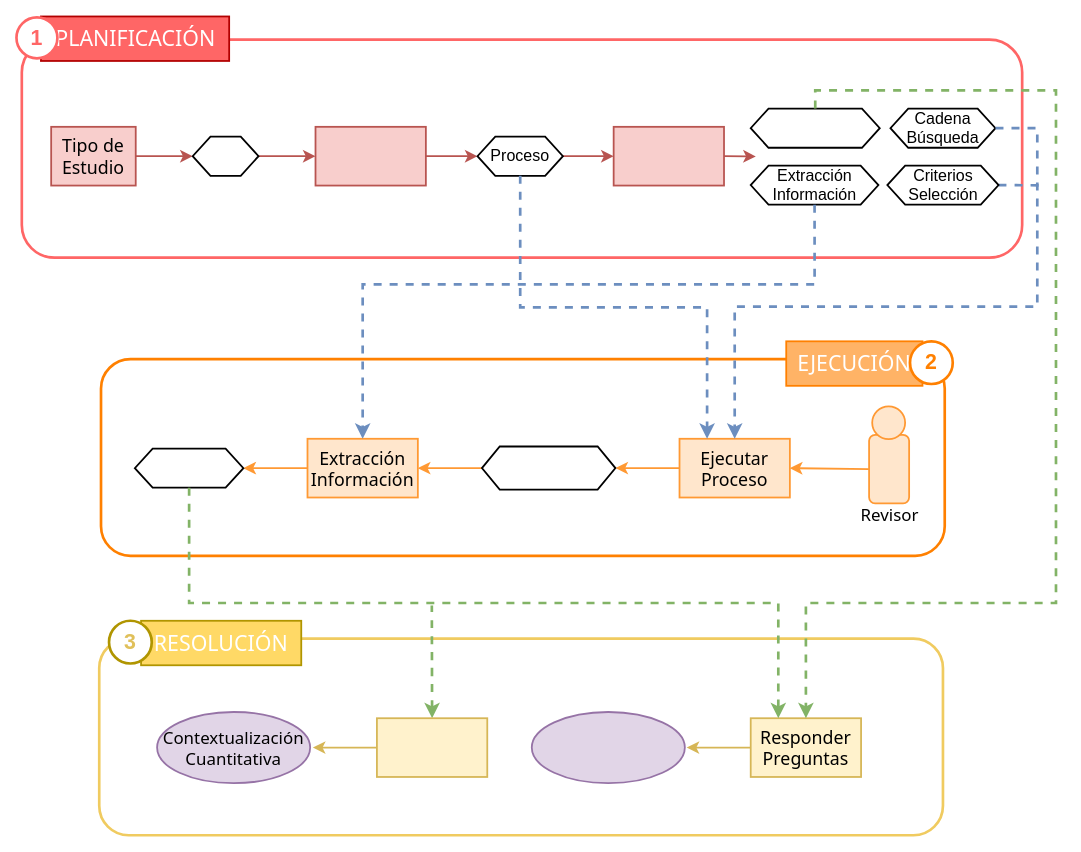
Some shapes in this 1081 by 852 pixel diagram are drawn without their labels. Here are the shapes that lost their labels. From the top down, the centre of each, then its label:
At (814,127): "Preguntas Investigación".
At (225,155): "SMS".
At (370,155): "Adaptar Metodología".
At (668,155): "Definir Parámetros".
At (189,467): "Información".
At (548,467): "Lista Estudios Primarios".
At (432,747): "Análisis Estadístico".
At (607,747): "Contextualización Cualitativa".
